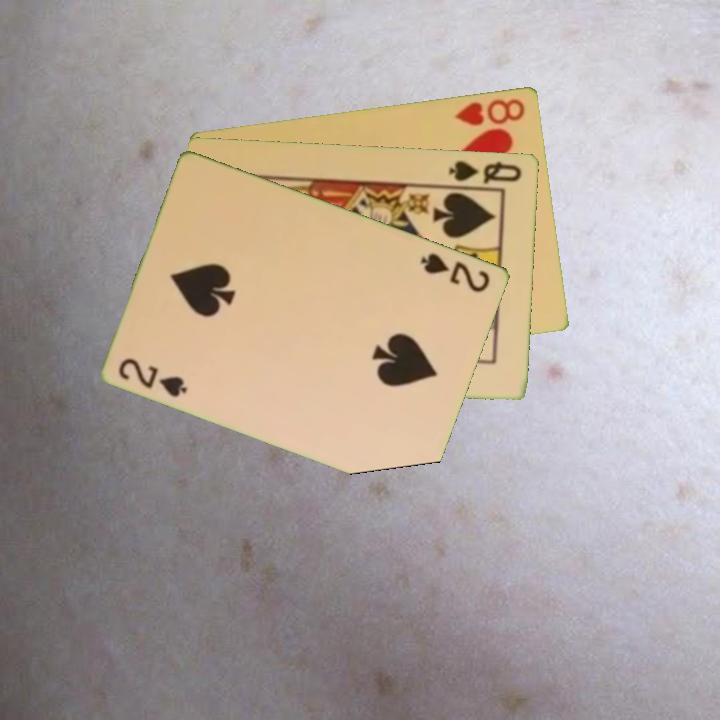2s: (417, 249, 494, 295), (115, 354, 191, 400)
8h: (452, 94, 528, 128)
Qs: (446, 157, 525, 186)
